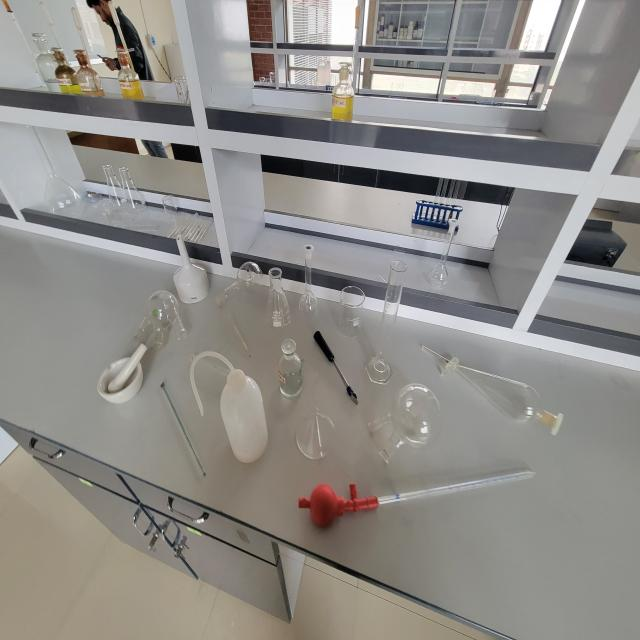Beaker: (334, 283, 369, 343)
Buchner_Funnel: (159, 229, 212, 313)
Conical_Flask: (260, 262, 296, 335), (100, 163, 130, 213)
Funnel: (291, 367, 346, 467)
Glass_Rod: (150, 367, 216, 497)
Measuring_Cylinder: (359, 245, 411, 390)
Pipette: (223, 309, 256, 361)
Porcelain_Mortar Pestle: (87, 332, 150, 415)
Reagent_Bottle: (274, 337, 307, 406)
Round_Bottom_Flask_Borosilicate_Glass_1_Neck: (211, 252, 266, 314)
Round_Bottom_Flask_Borosilicate_Glass_2_Neck: (360, 368, 448, 468)
Round_Bottom_Flask_Borosilicate_Glass_3_Neck: (132, 277, 190, 355)
Separating_Funnel: (413, 333, 582, 454)
TestTube_Holder: (308, 323, 368, 422)
Volumetric_Flask: (422, 218, 475, 293), (295, 238, 324, 324)
Volumetric_Pipet: (288, 461, 543, 545)
Wash_Bottle: (187, 339, 277, 479)
